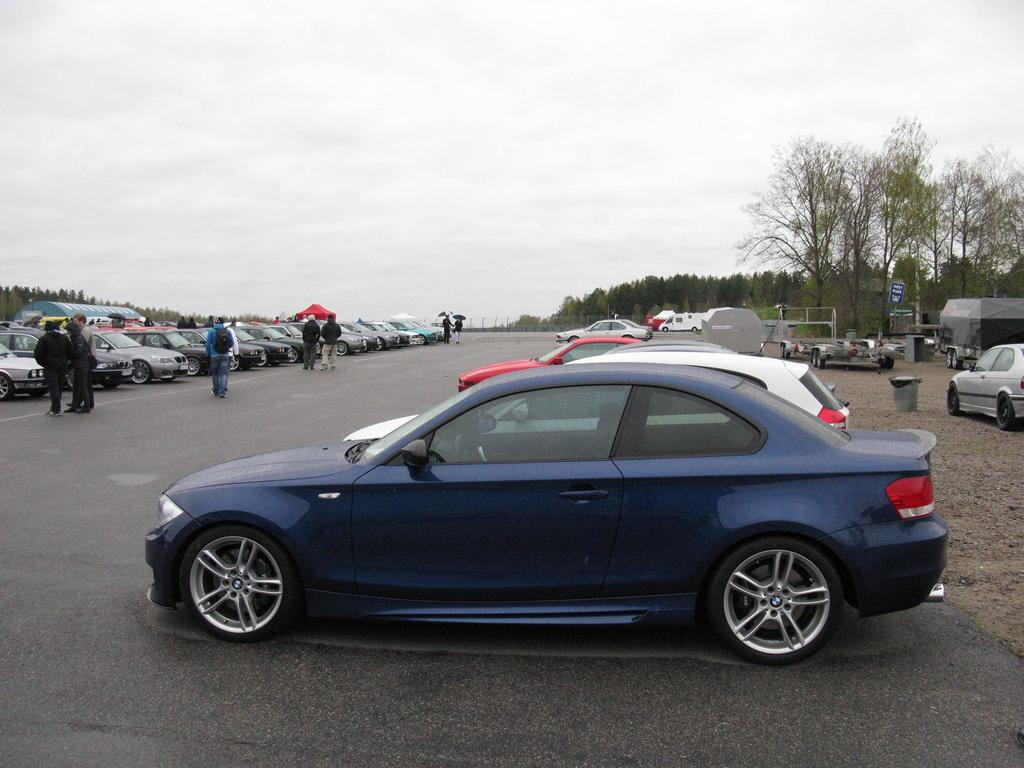Car: (115, 350, 924, 664), (339, 314, 851, 439), (0, 313, 446, 399), (947, 341, 1023, 428)
